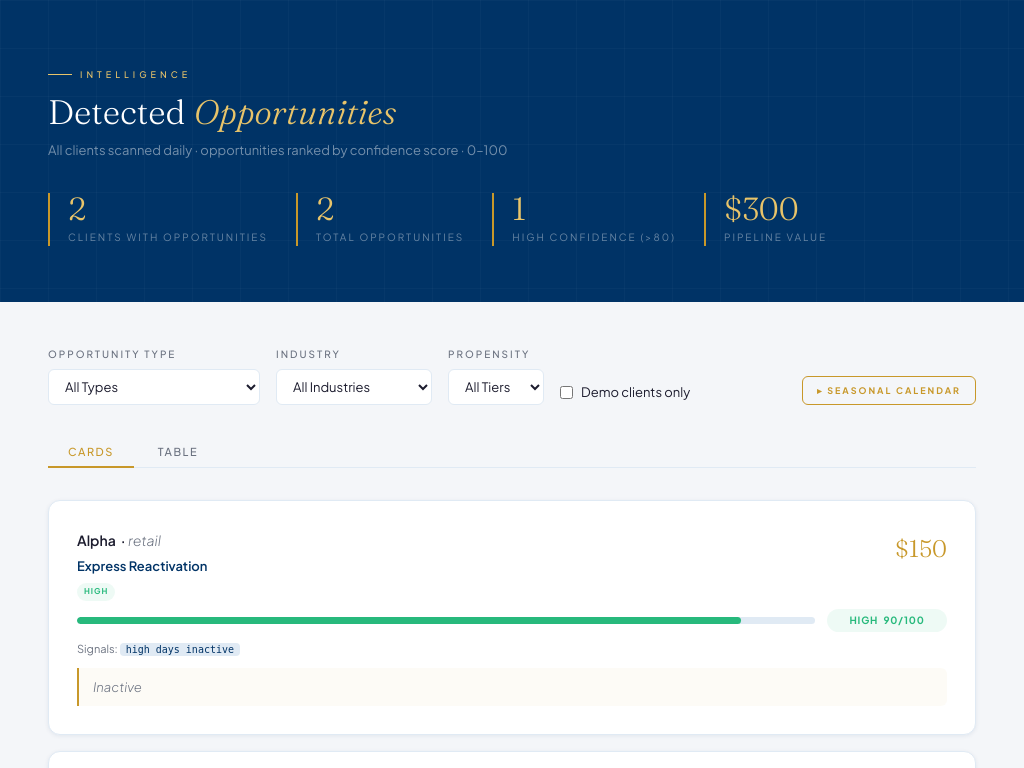
Test: OpportunitiesPage › filters by propensity locally, without another request
Expected: the text "Alpha · retail" is shown, [77, 531, 161, 549]
Select "Low" in the dropdown showing "All Tiers" below "Propensity" at {"x": 496, "y": 387}, box [448, 369, 544, 405]
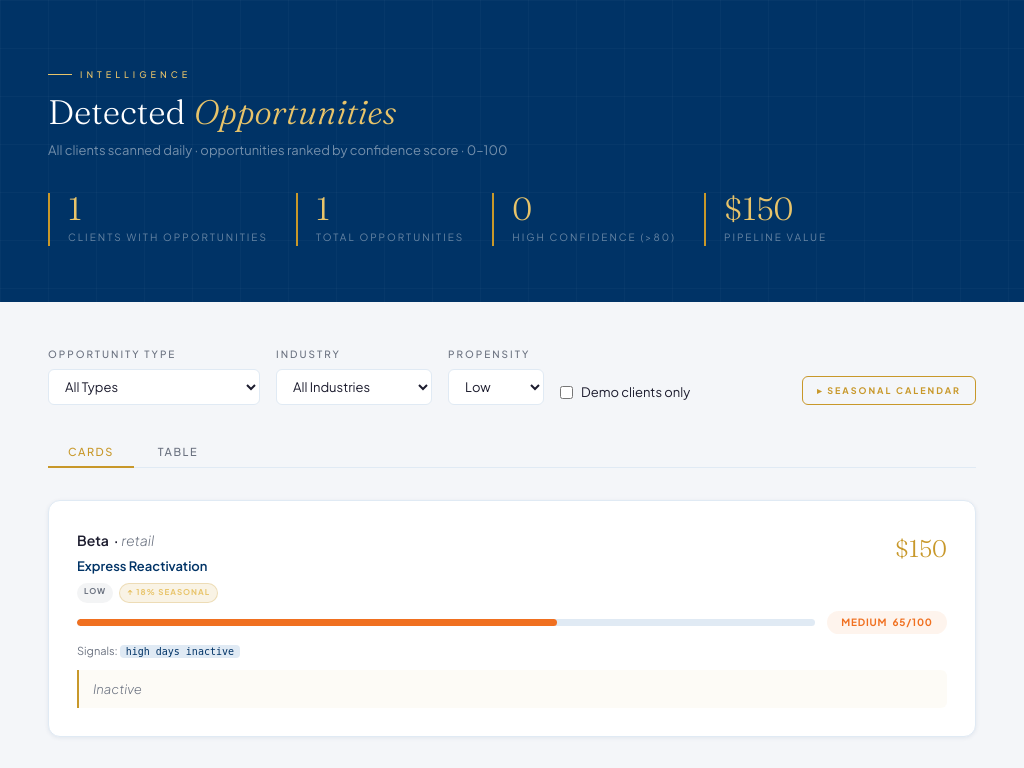
Expected: the text "Alpha" is gone
Expected: the text "Beta · retail" is shown, [77, 531, 154, 549]
